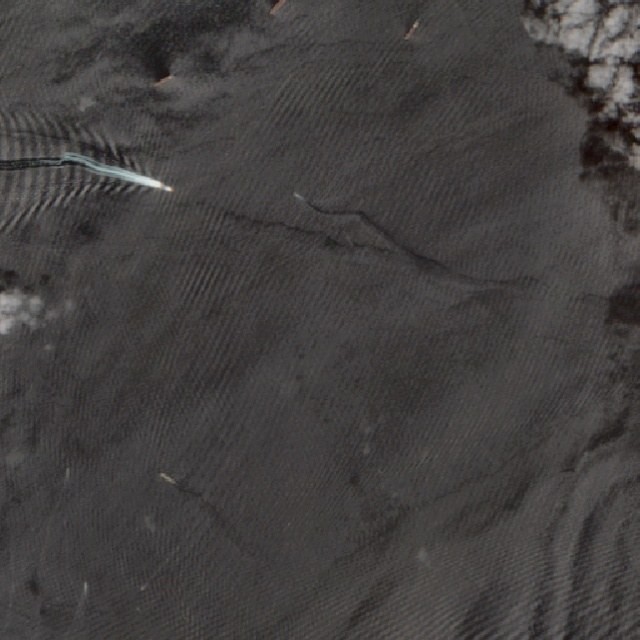wake: (46, 123, 187, 224)
